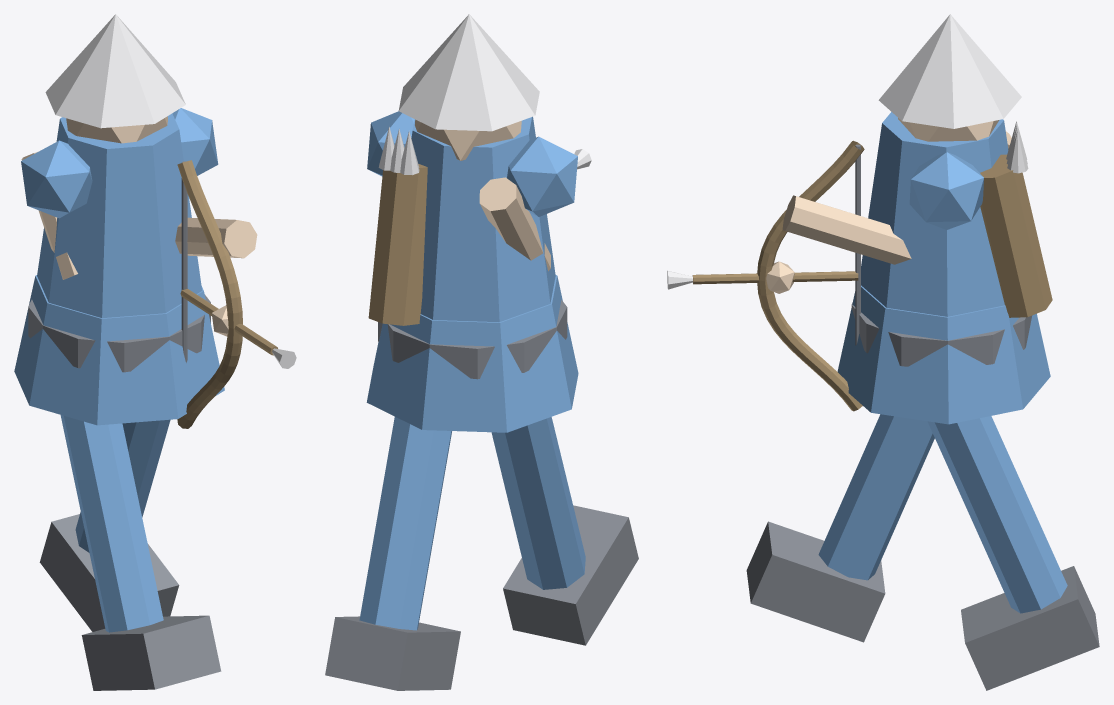
Rendered from archer.glb.
The picture shows the model from 3 angles, left to right: view 1: azimuth 30°, elevation 25°; view 2: azimuth 150°, elevation 25°; view 3: azimuth 270°, elevation 25°; orthographic projection. The views are drawn at different scales.
Visible parts, largest first — view 1: Cone.001, Cone, Cylinder.001, Cone.002, Cube.001, Cube, Bow, Icosphere.001, Cylinder.002, Cylinder, Cylinder.004, Icosphere (+4 smaller); view 2: Cone, Cone.001, Cylinder, Cone.002, Cylinder.001, Cube.001, Cube, Cylinder.003, Icosphere.001, Cylinder.002, Cylinder.005, Icosphere.002 (+2 smaller); view 3: Cone, Cone.001, Cylinder, Cylinder.001, Cube.001, Cube, Cone.002, Cylinder.003, Cylinder.004, Bow, Icosphere, Cylinder.002 (+4 smaller).
Boxes of the visible parts, x1=… form: Cone.001: x1=37, y1=113, x2=202, y2=318; Cone: x1=14, y1=275, x2=224, y2=425; Cylinder.001: x1=60, y1=415, x2=163, y2=632; Cone.002: x1=45, y1=14, x2=185, y2=128; Cube.001: x1=81, y1=615, x2=221, y2=690; Cube: x1=39, y1=514, x2=179, y2=631; Bow: x1=177, y1=160, x2=242, y2=428; Icosphere.001: x1=21, y1=140, x2=92, y2=218; Cylinder.002: x1=28, y1=294, x2=210, y2=372; Cylinder: x1=75, y1=419, x2=170, y2=552; Cylinder.004: x1=175, y1=217, x2=257, y2=258; Icosphere: x1=172, y1=108, x2=218, y2=175; Cone: x1=366, y1=275, x2=578, y2=432; Cone.001: x1=411, y1=116, x2=555, y2=322; Cylinder: x1=359, y1=417, x2=451, y2=630; Cone.002: x1=398, y1=14, x2=539, y2=131; Cylinder.001: x1=491, y1=417, x2=585, y2=589; Cube.001: x1=503, y1=505, x2=638, y2=645; Cube: x1=325, y1=616, x2=460, y2=690; Cylinder.003: x1=368, y1=164, x2=427, y2=325; Icosphere.001: x1=507, y1=136, x2=577, y2=216; Cylinder.002: x1=378, y1=300, x2=567, y2=379; Cylinder.005: x1=479, y1=177, x2=550, y2=271; Icosphere.002: x1=415, y1=119, x2=521, y2=160; Cone: x1=837, y1=285, x2=1050, y2=424; Cone.001: x1=861, y1=112, x2=1008, y2=316; Cylinder: x1=927, y1=416, x2=1067, y2=613; Cylinder.001: x1=818, y1=414, x2=934, y2=580; Cube.001: x1=746, y1=521, x2=885, y2=642; Cube: x1=961, y1=566, x2=1099, y2=690; Cone.002: x1=878, y1=14, x2=1021, y2=128; Cylinder.003: x1=980, y1=154, x2=1052, y2=317; Cylinder.004: x1=782, y1=195, x2=911, y2=264; Bow: x1=757, y1=140, x2=864, y2=411; Icosphere: x1=909, y1=152, x2=983, y2=229; Cylinder.002: x1=851, y1=303, x2=1032, y2=366.
Bounding box in the file's own units: 0.6138 × 1.97 × 1.2.
